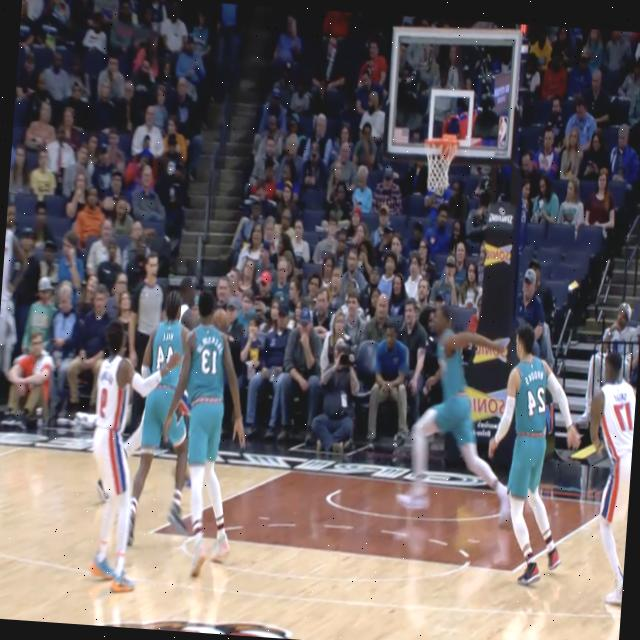no foul: (125, 267, 242, 581), (64, 322, 156, 602), (177, 290, 250, 594)
